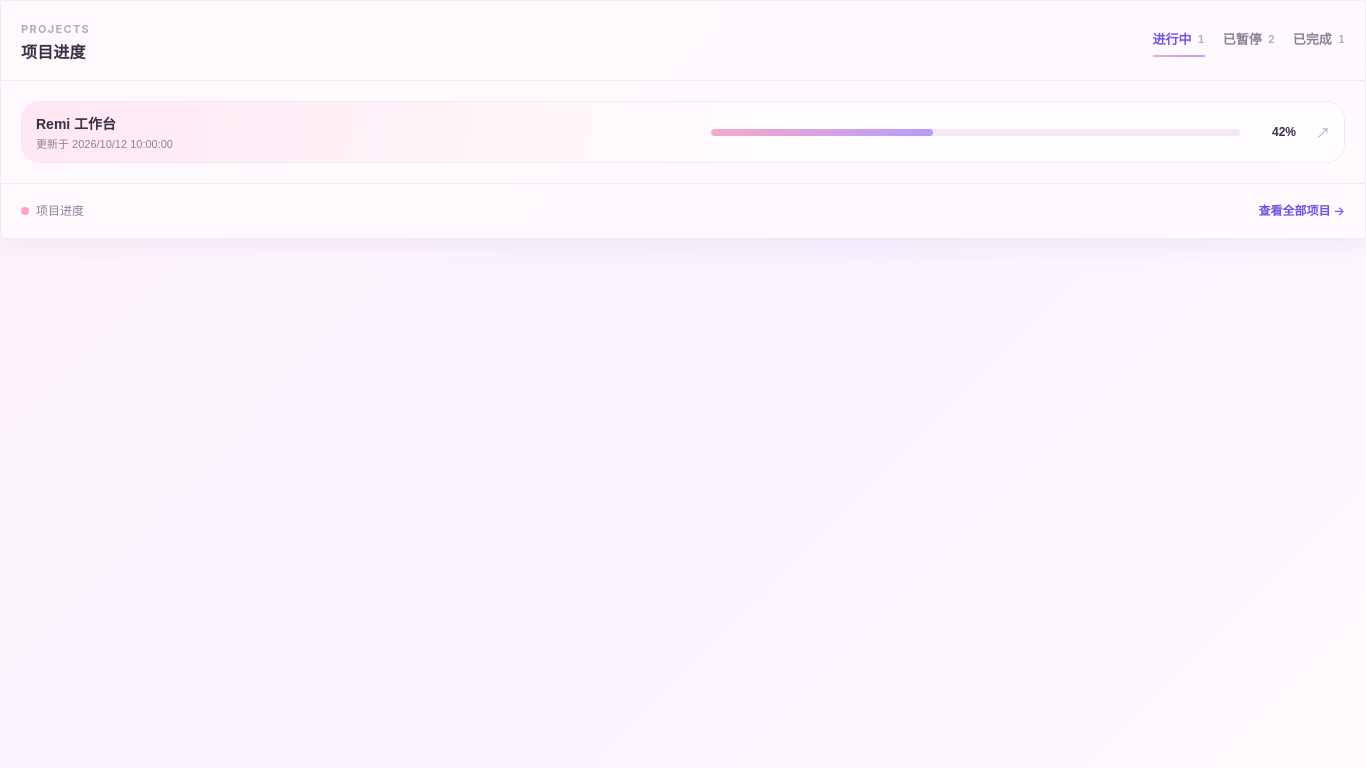
Test: ProjectOverviewCard › explains when a status has projects outside the recent five
Step 1. Click the button with class "tab" showing "已暂停 2" → (1249, 41), box [1223,22,1275,59]
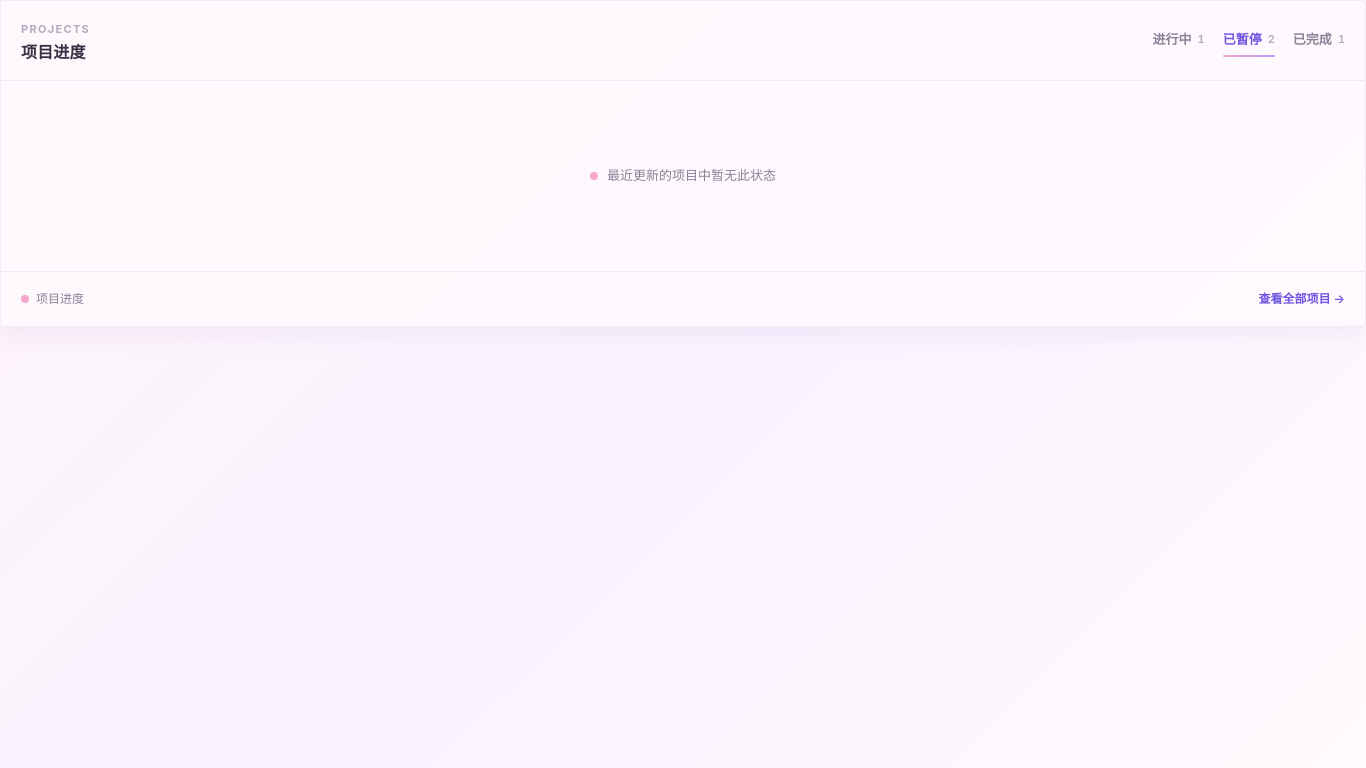
expect the text "最近更新的项目中暂无此状态" is shown: met, box [607,166,776,186]
